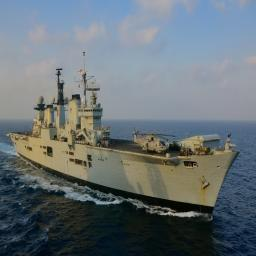Portanaves: (6, 51, 240, 223)
